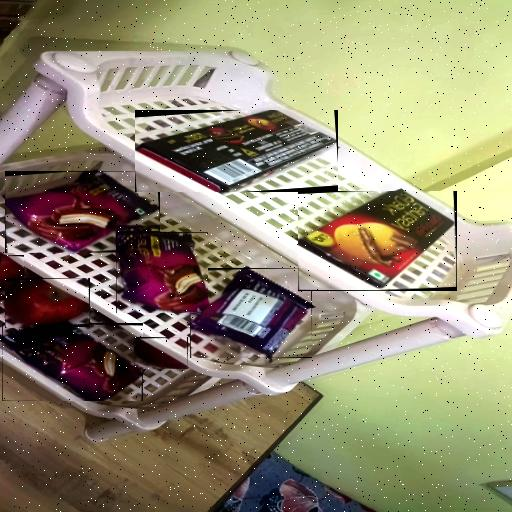Apple: (5, 278, 90, 326), (134, 337, 188, 369), (0, 255, 24, 291)
Choco Fills: (135, 110, 338, 192), (298, 191, 457, 291)
Choco Pie: (5, 172, 160, 254), (2, 323, 143, 401), (190, 268, 312, 358), (116, 232, 208, 313)
